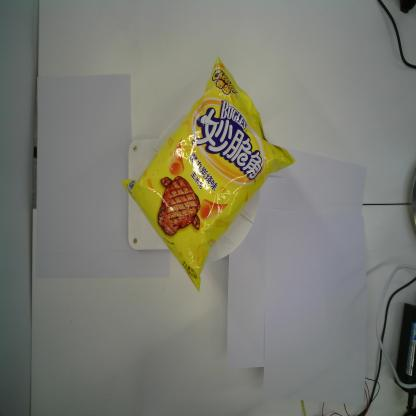Puffed Food: (123, 54, 296, 296)
